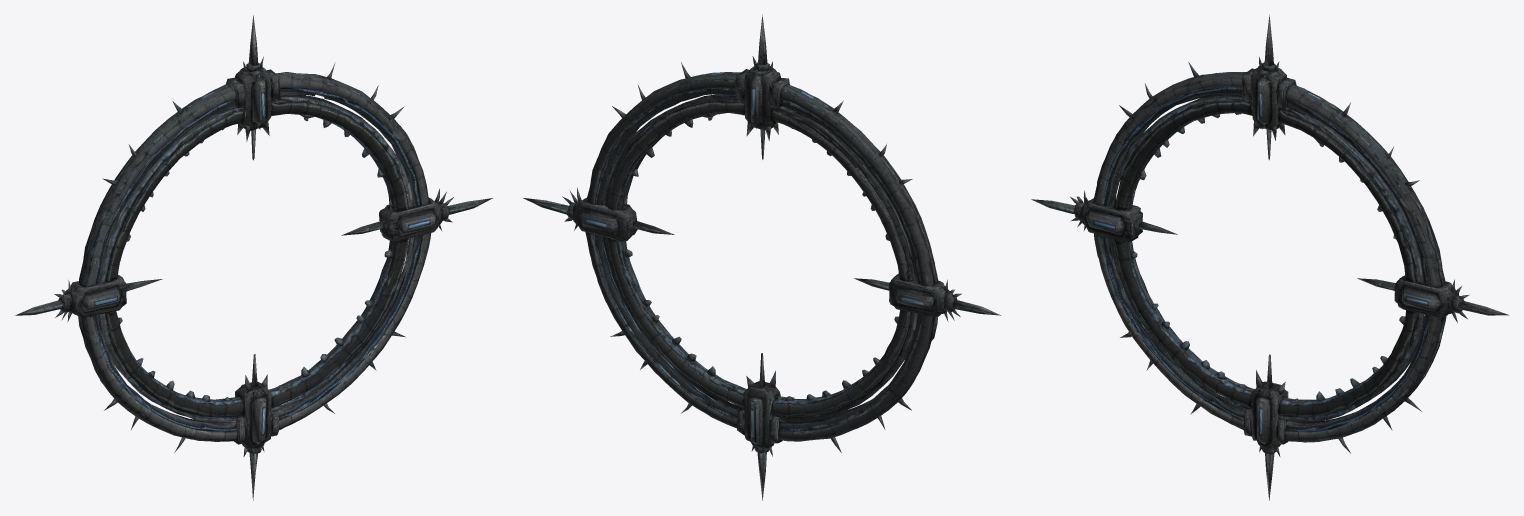
The model's file is dyson_1.glb.
3 renders of one model, left to right at view 1: azimuth 30°, elevation 25°; view 2: azimuth 150°, elevation 25°; view 3: azimuth 330°, elevation 25°, orthographic.
Size of the model in its own units: 1 by 0.9727 by 0.0681.
1 material, 1 textured.
